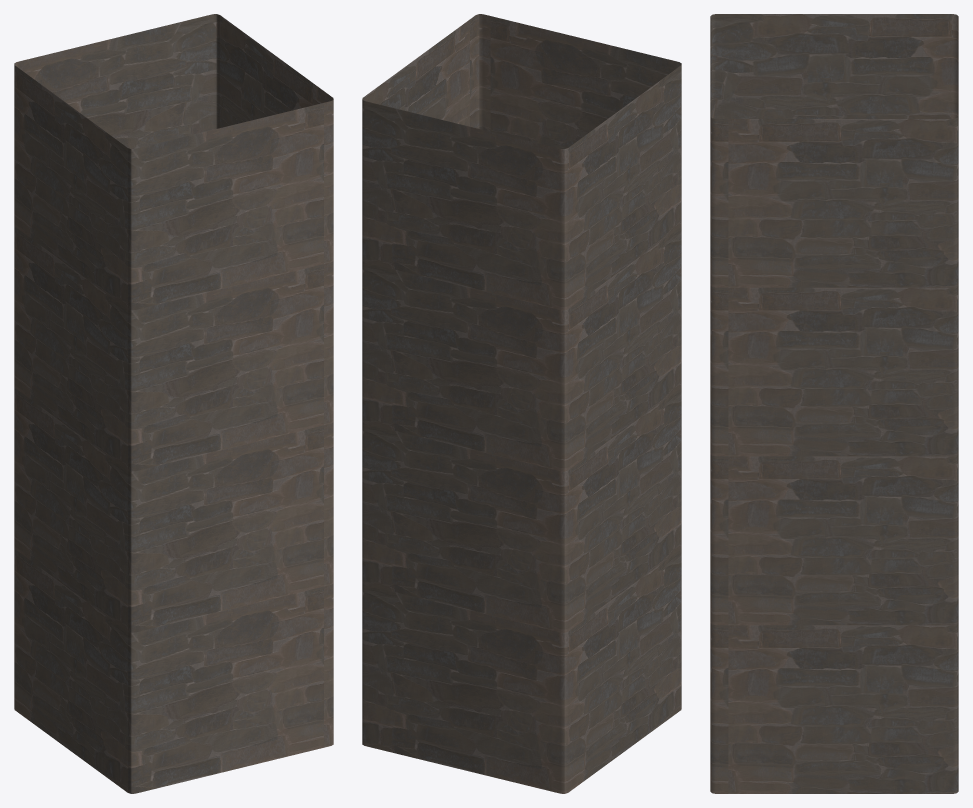
The model's file is CornerWall.fbx.
3 renders of one model, left to right at view 1: azimuth 30°, elevation 25°; view 2: azimuth 150°, elevation 25°; view 3: azimuth 270°, elevation 25°, orthographic. The views are drawn at different scales.
Parts seen in each view (by area): view 1: WallCorner; view 2: WallCorner; view 3: WallCorner.
Boxes of the visible parts, left/top/right/bottom form: WallCorner: left=14, top=14, right=333, bottom=793; WallCorner: left=362, top=14, right=681, bottom=793; WallCorner: left=710, top=14, right=958, bottom=793.
Size of the model in its own units: 100 by 300 by 100.
1 material, 1 textured.
